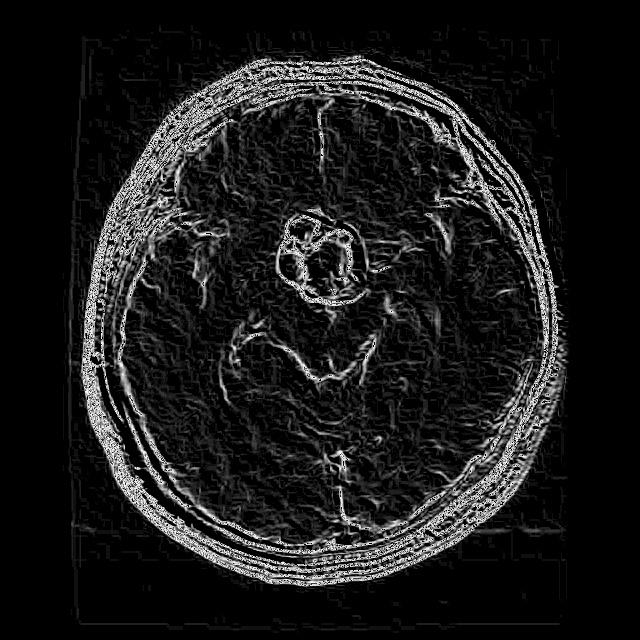Brain-Tumor: (265, 198, 385, 322)
